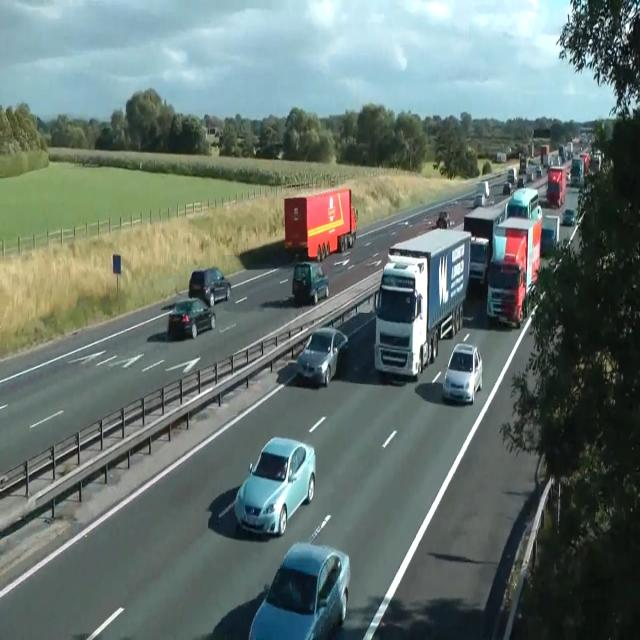bus: (248, 541, 350, 639), (234, 435, 316, 537), (296, 326, 348, 387), (442, 342, 482, 404), (168, 297, 215, 339), (292, 261, 330, 305), (436, 211, 454, 229), (561, 208, 576, 226), (473, 192, 486, 208), (503, 181, 511, 195), (535, 164, 542, 178)
jeep: (188, 266, 231, 306), (469, 236, 489, 284)
minibus: (374, 227, 472, 381), (486, 215, 542, 328), (284, 186, 358, 261), (463, 204, 503, 288), (540, 211, 582, 263), (546, 166, 566, 208), (570, 156, 584, 186), (507, 167, 517, 185), (496, 152, 506, 163)
